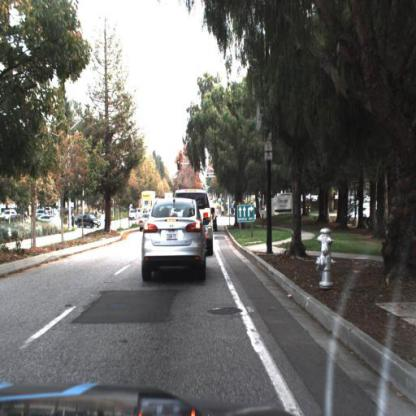car: (142, 201, 208, 283), (199, 190, 214, 258), (76, 214, 100, 230)
pedestrian: (221, 203, 226, 219), (232, 201, 236, 219), (99, 210, 103, 222)
trafficLight: (178, 159, 182, 171)
